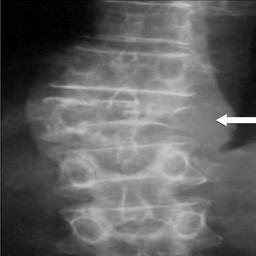cancer: (175, 67, 238, 165)
